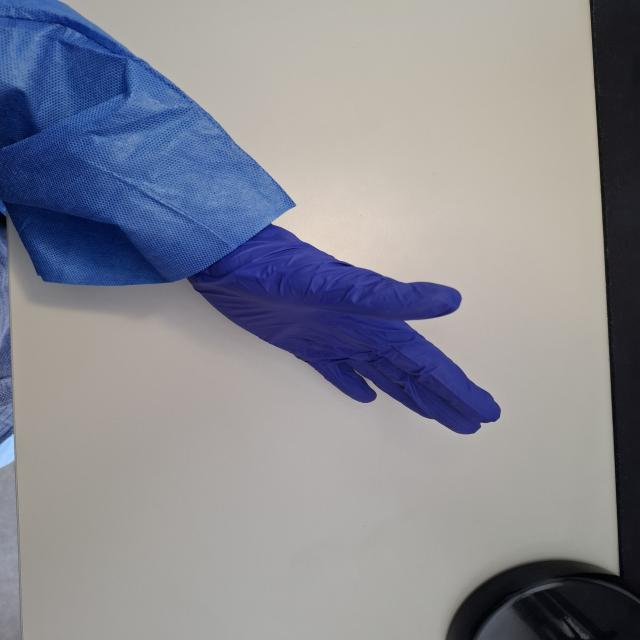glove_on: (180, 217, 504, 439)
